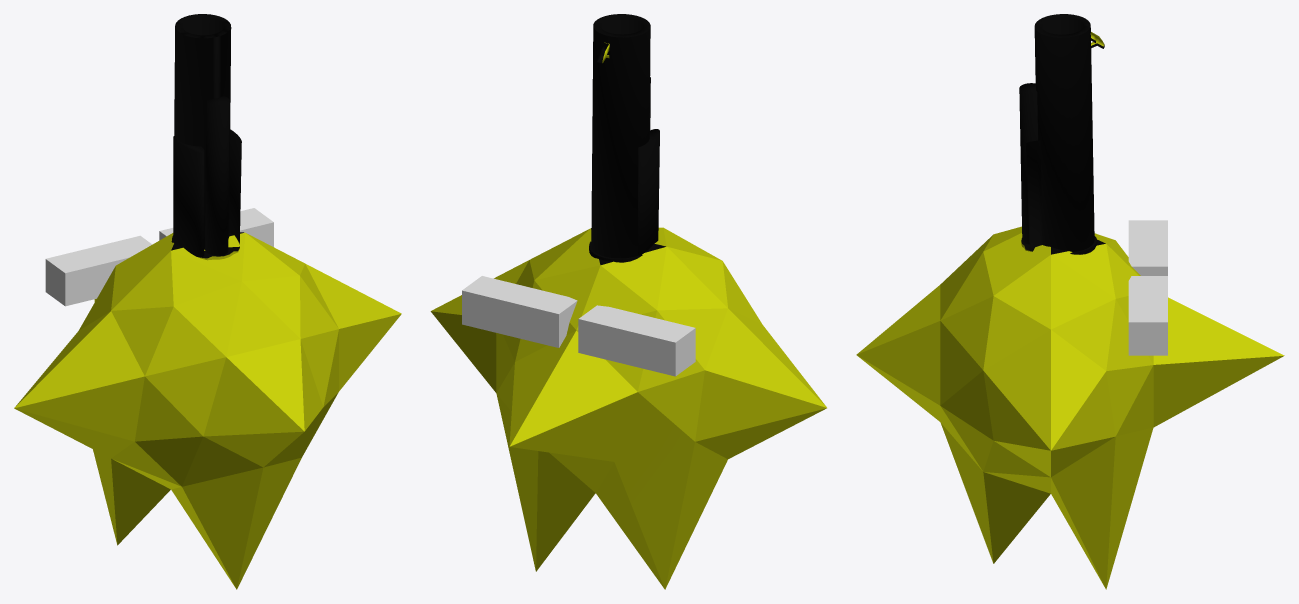
The model's file is RangedEnemy.fbx.
3 views of the same model, side by side, from view 1: azimuth 30°, elevation 25°; view 2: azimuth 150°, elevation 25°; view 3: azimuth 270°, elevation 25° (orthographic). The views are drawn at different scales.
Parts seen in each view (by area): view 1: RangedEnemy, 立方体; view 2: RangedEnemy, 立方体; view 3: RangedEnemy, 立方体.
Part boxes in pixels (x1,y1,x2,y2): RangedEnemy: (14,14,401,589); 立方体: (45,208,273,306); RangedEnemy: (430,14,826,589); 立方体: (462,276,695,376); RangedEnemy: (856,14,1284,589); 立方体: (1128,220,1167,355).
Bounding box in the file's own units: 284 × 377 × 271.
